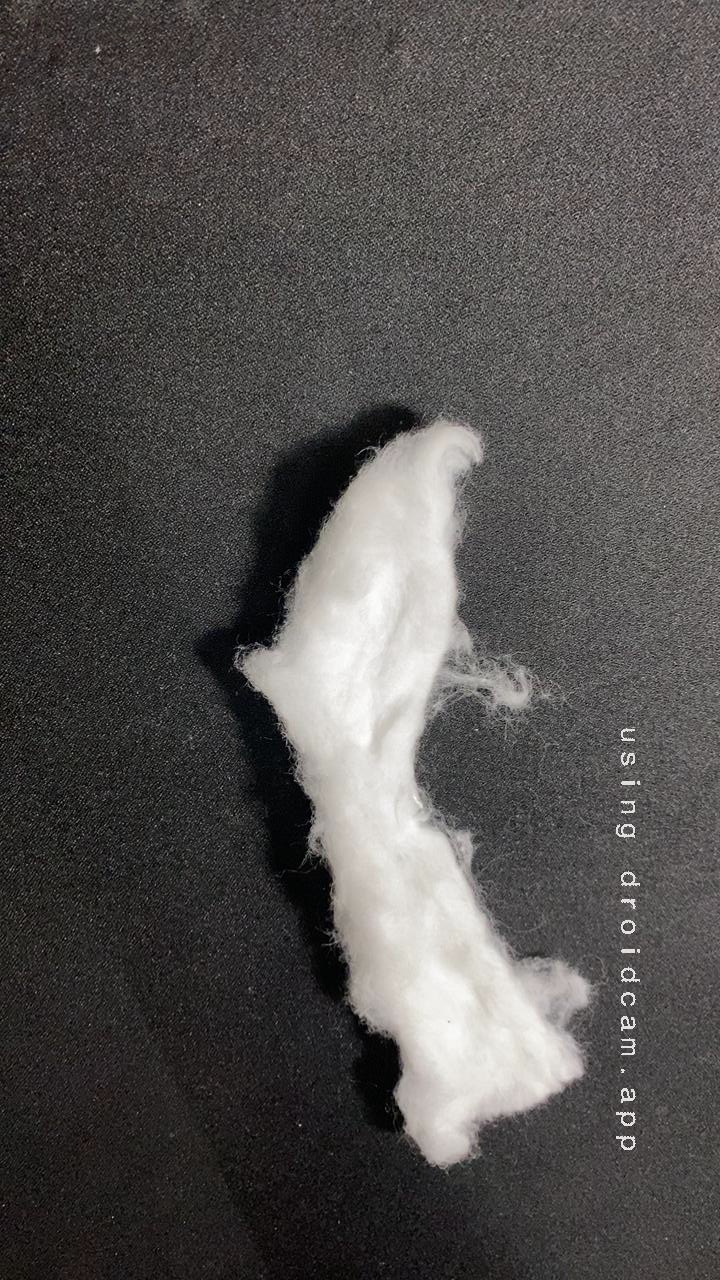cotton: (207, 395, 642, 1243)
